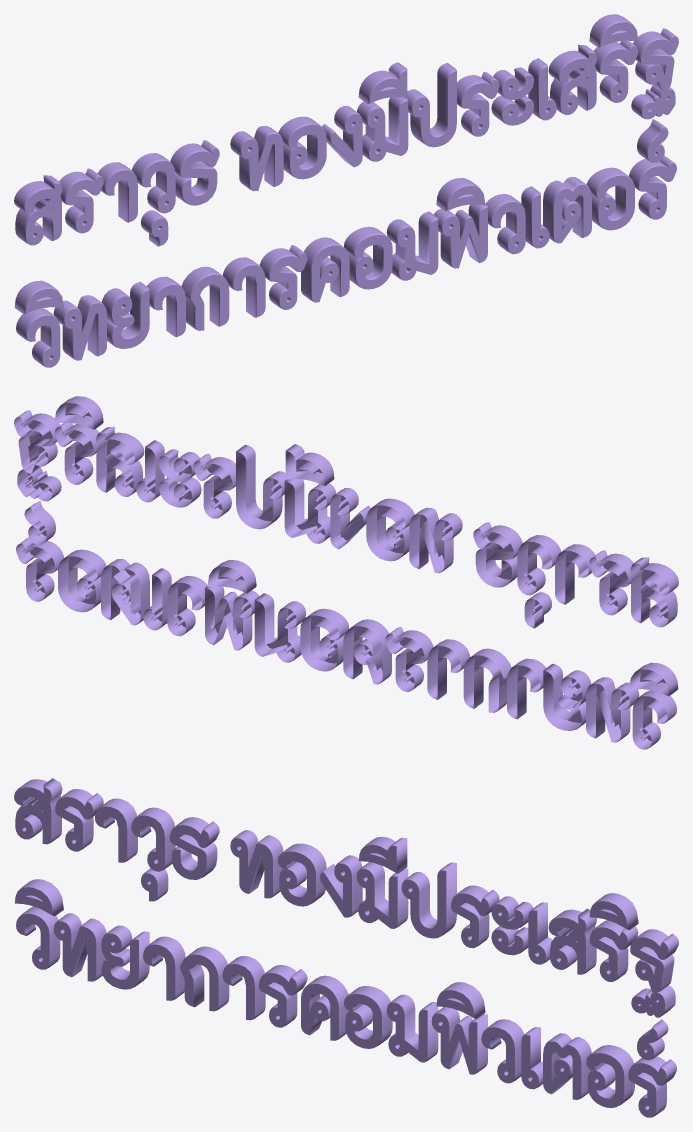
3 renders of one model, top to bottom at view 1: azimuth 30°, elevation 25°; view 2: azimuth 150°, elevation 25°; view 3: azimuth 330°, elevation 25°, orthographic.
Visible parts, largest first — view 1: Text; view 2: Text; view 3: Text.
Part boxes in pixels (box(x1,y1,x2,y2)): Text: box(14, 14, 678, 367); Text: box(14, 396, 678, 749); Text: box(14, 778, 678, 1117).
Size of the model in its own units: 0.9477 by 0.293 by 0.025.
